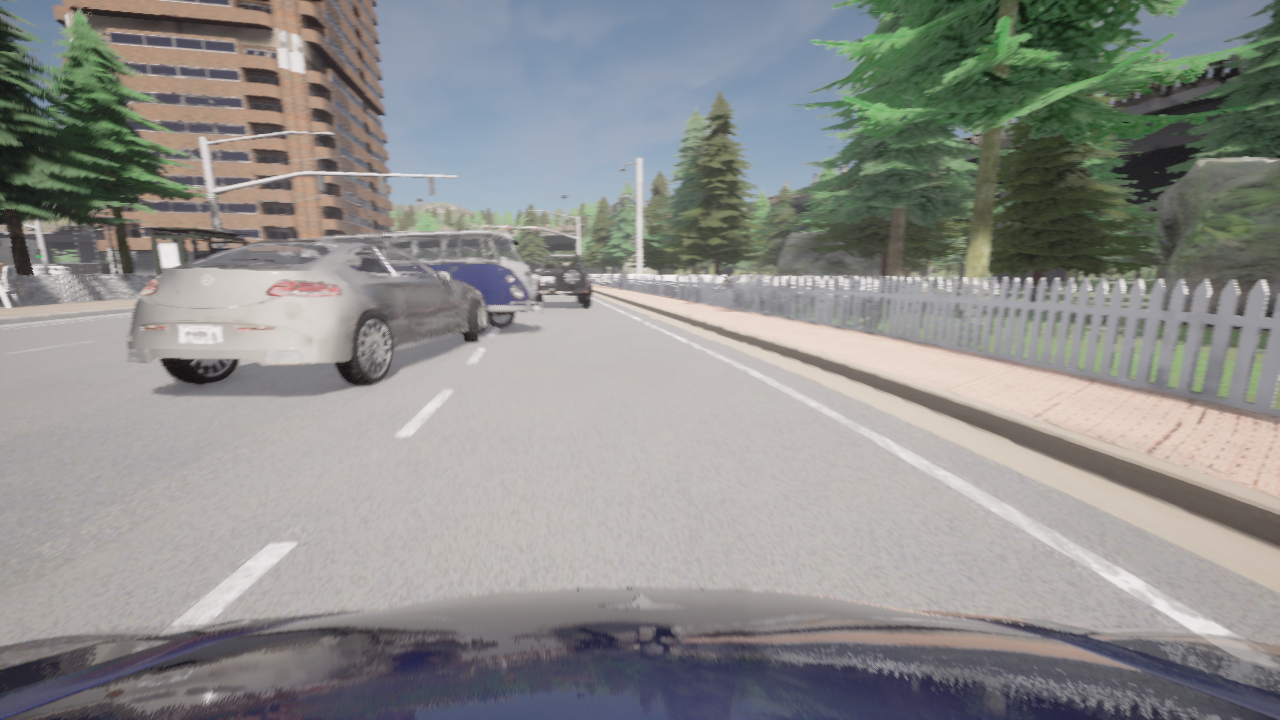cyclist: (0, 588, 1279, 719), (126, 239, 485, 384), (316, 230, 541, 334), (535, 254, 591, 307), (33, 264, 70, 278), (7, 264, 44, 276)
